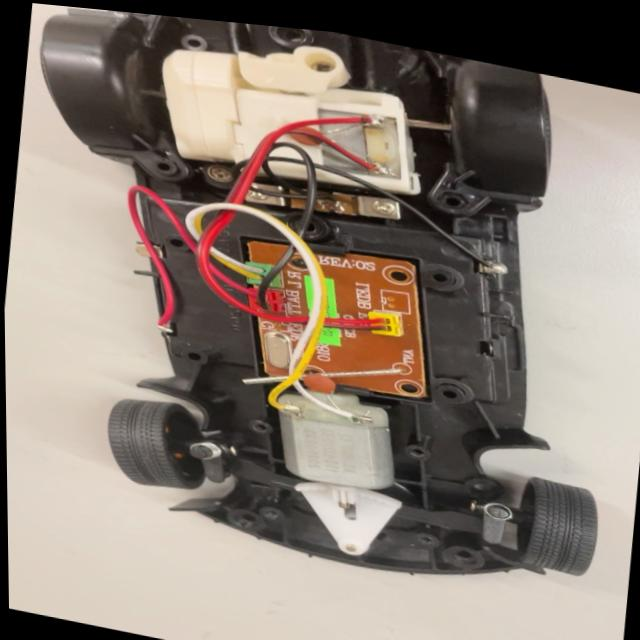Chassis: (31, 3, 640, 634)
motor: (256, 377, 400, 524)
wheel: (84, 385, 213, 515), (493, 471, 609, 581)
